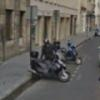motorcycles: (28, 49, 71, 82)
